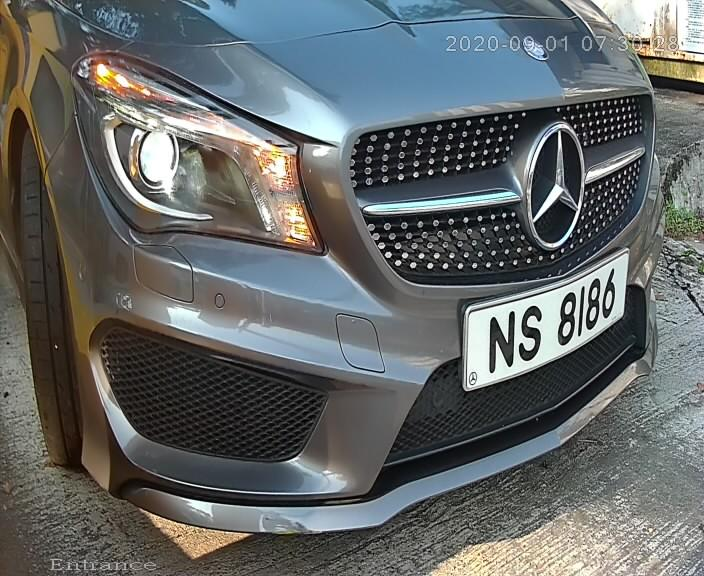License Plate: (459, 258, 620, 391)
